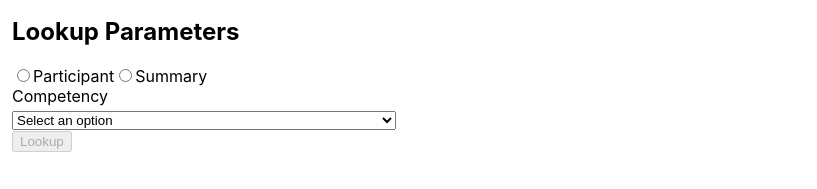
Lookup › Summary results › Should render summary - competency type results
Expected: the heading "Lookup Parameters" is shown, [12,17,240,46]
Click the radio button labelled "Summary". click: [126, 75]
box: [119,69,132,82]
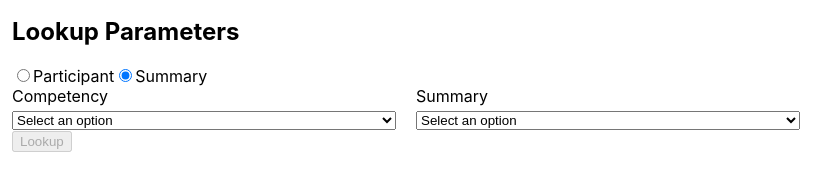
Expected: the heading "Lookup Parameters" is shown, [12,17,240,46]
Result: the 2nd dropdown named "summary" is shown at [416,111,800,130]
Select "MBOLevel" in the dropdown named "competency" below "Competency". click: [204, 120]
box: [12,111,396,130]
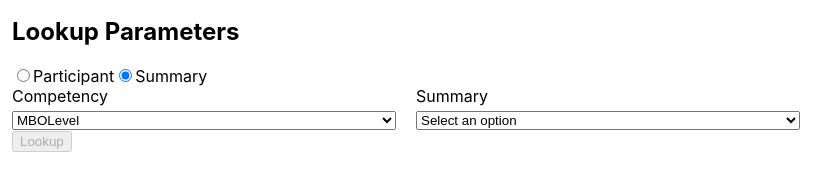
Select "Type" in the 2nd dropdown named "summary". click: [608, 120]
box: [416,111,800,130]
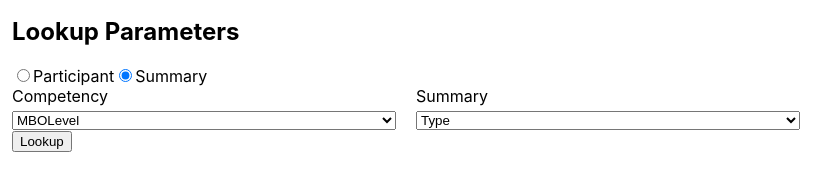
Result: the submit button is enabled
Click the submit button. click: [42, 141]
box: [12,131,72,152]
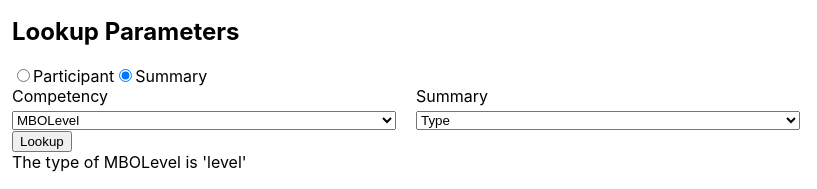
Result: the text "The type of MBOLevel is 'level'" is shown at [12,152,247,172]
